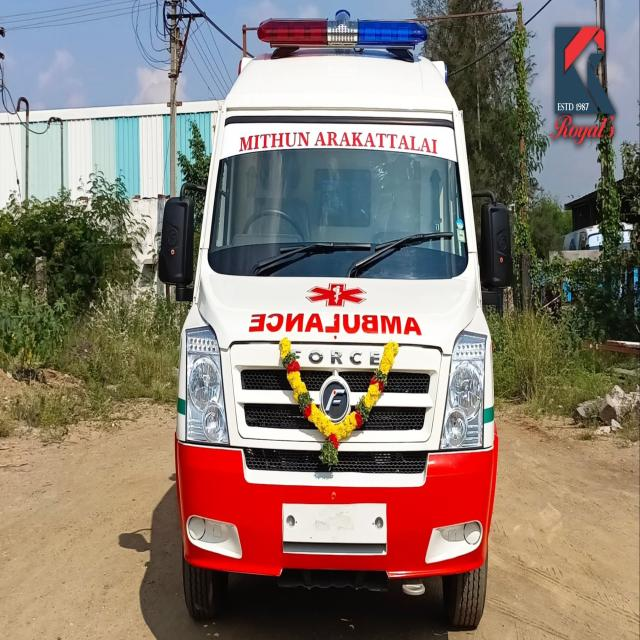Ambulance: (154, 8, 496, 634)
